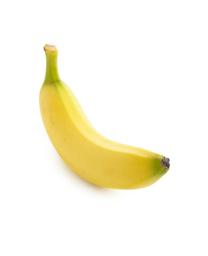banana: (38, 42, 170, 190)
